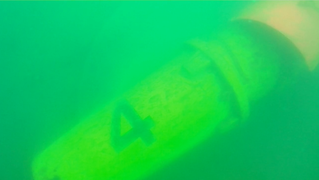4: (111, 101, 155, 150)
leak: (231, 1, 319, 72)
pipe: (29, 23, 319, 179)
